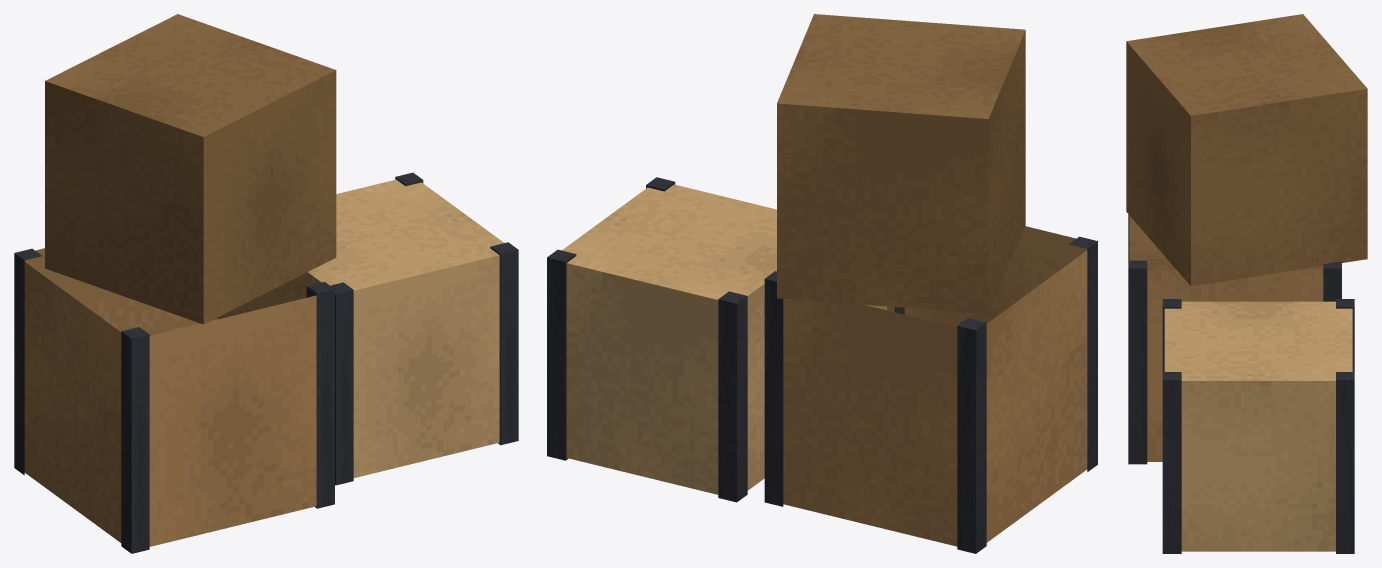
Rendered from prop_crate_stack.glb.
The picture shows the model from 3 angles, left to right: view 1: azimuth 30°, elevation 25°; view 2: azimuth 150°, elevation 25°; view 3: azimuth 270°, elevation 25°; orthographic projection. The views are drawn at different scales.
Visible parts, largest first — view 1: prop_crate_stack; view 2: prop_crate_stack; view 3: prop_crate_stack.
Boxes of the visible parts, x1,y1,x2,y2 form: prop_crate_stack: (14,14,518,553); prop_crate_stack: (547,14,1097,553); prop_crate_stack: (1126,14,1367,553).
Size of the model in its own units: 1.81 by 1.71 by 1.03.
Materials: 1 (1 with a texture image).
